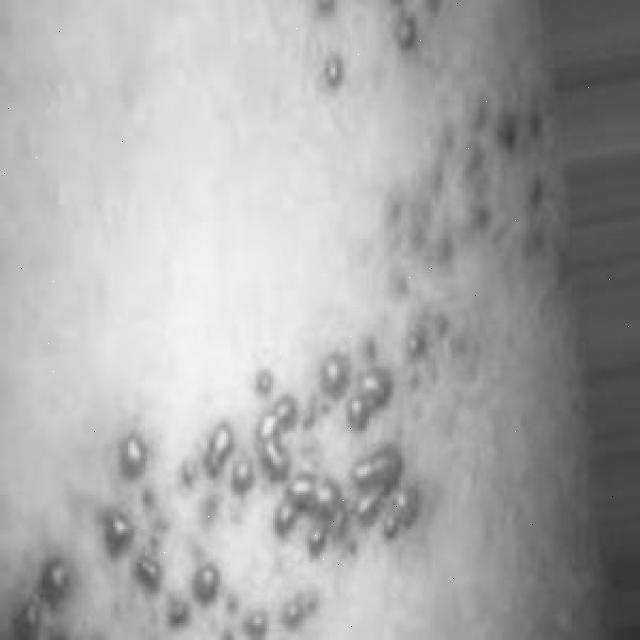Shingles: (0, 333, 422, 640), (374, 83, 554, 400)
